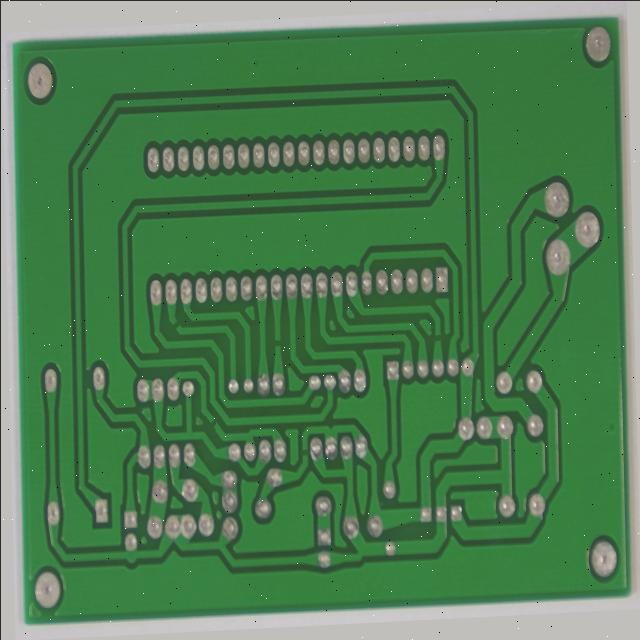open_circuit: (200, 415, 215, 430), (165, 309, 180, 324), (433, 336, 445, 354), (270, 334, 281, 350), (295, 450, 305, 465)
